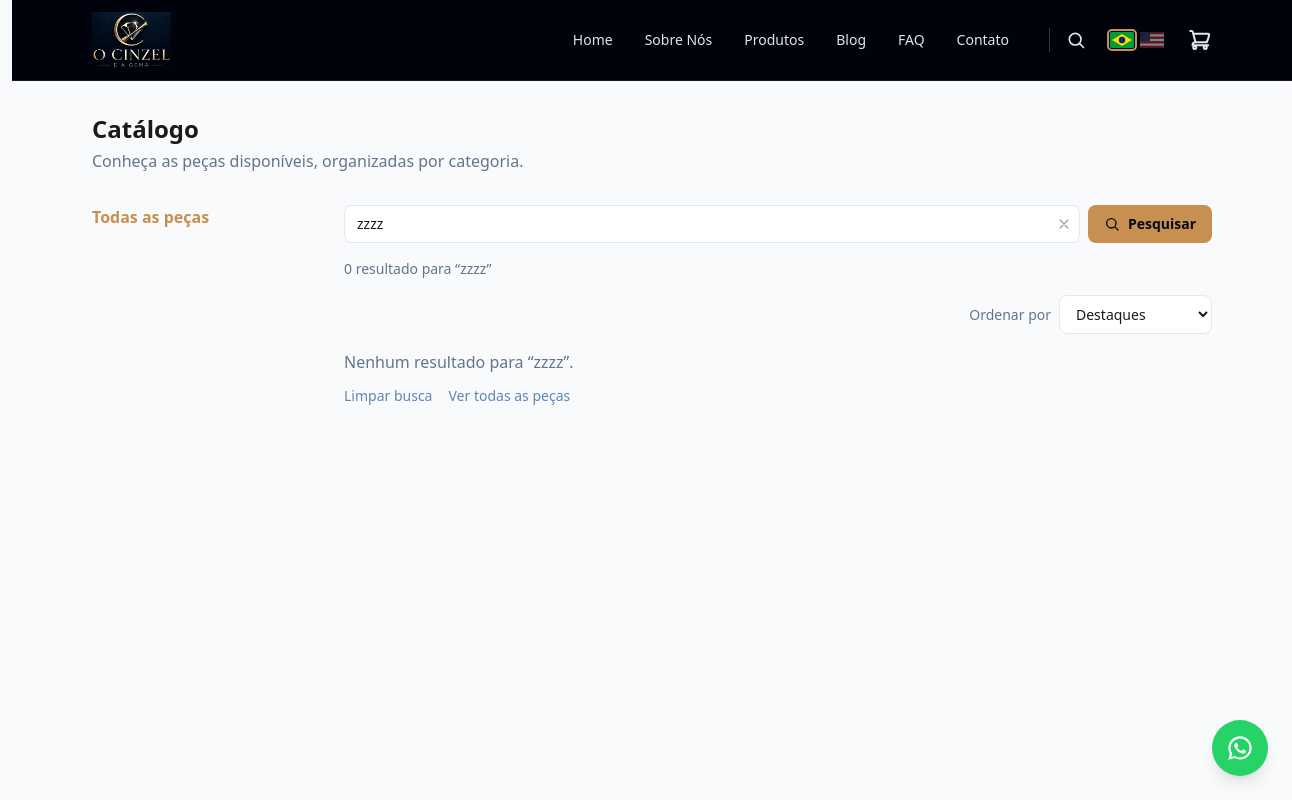
Scenario: Catalog — busca › sem resultados mostra mensagem amigável com ações de limpar busca e ver todas as peças
The width and height of the screenshot is (1292, 800).
Check: the text "Nenhum resultado para “zzzz”." is shown, box [344,350,574,374]
Click the button "Ver todas as peças".
click(509, 396)  # box [448,386,570,406]
(page scrolled)
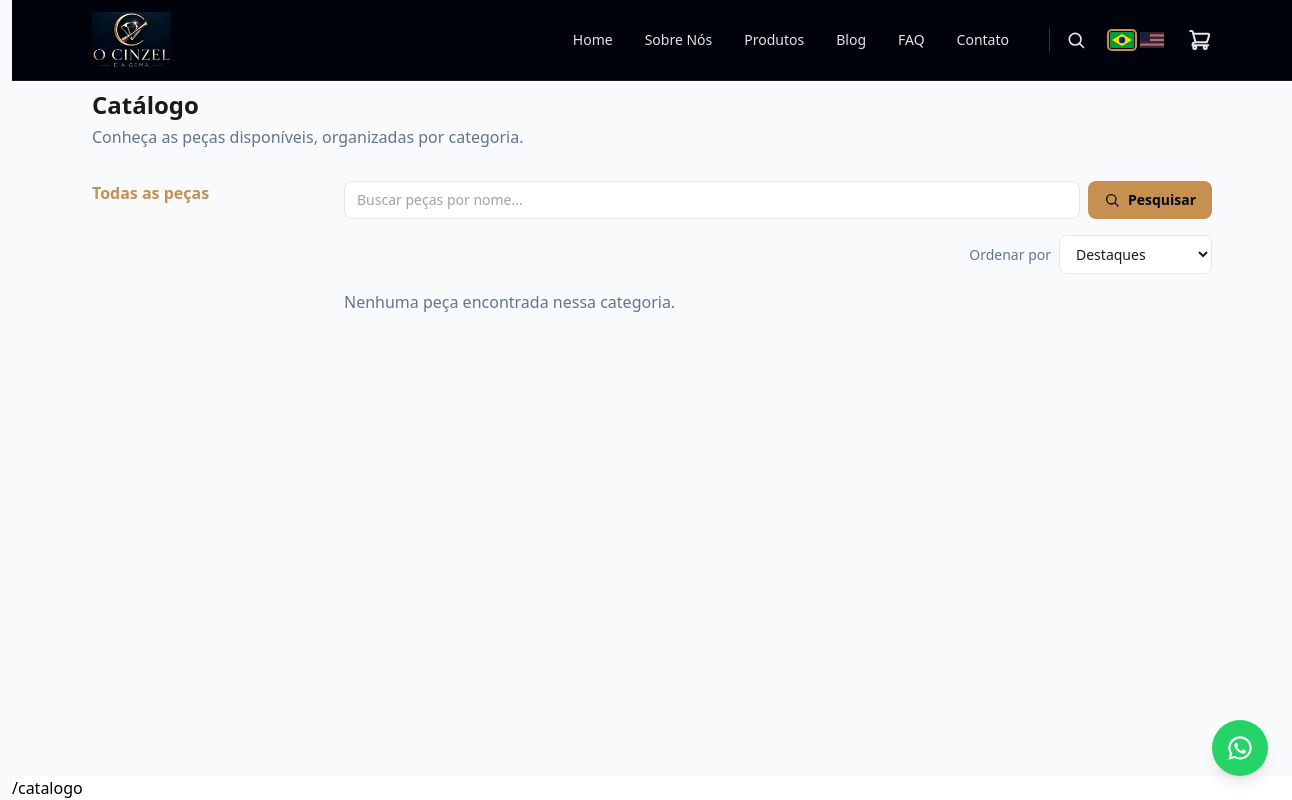
Check: the text with test id "location-display" reads "/catalogo", box [12,777,83,799]
Check: the text with test id "location-display" no longer shows "q=", box [12,777,83,799]
